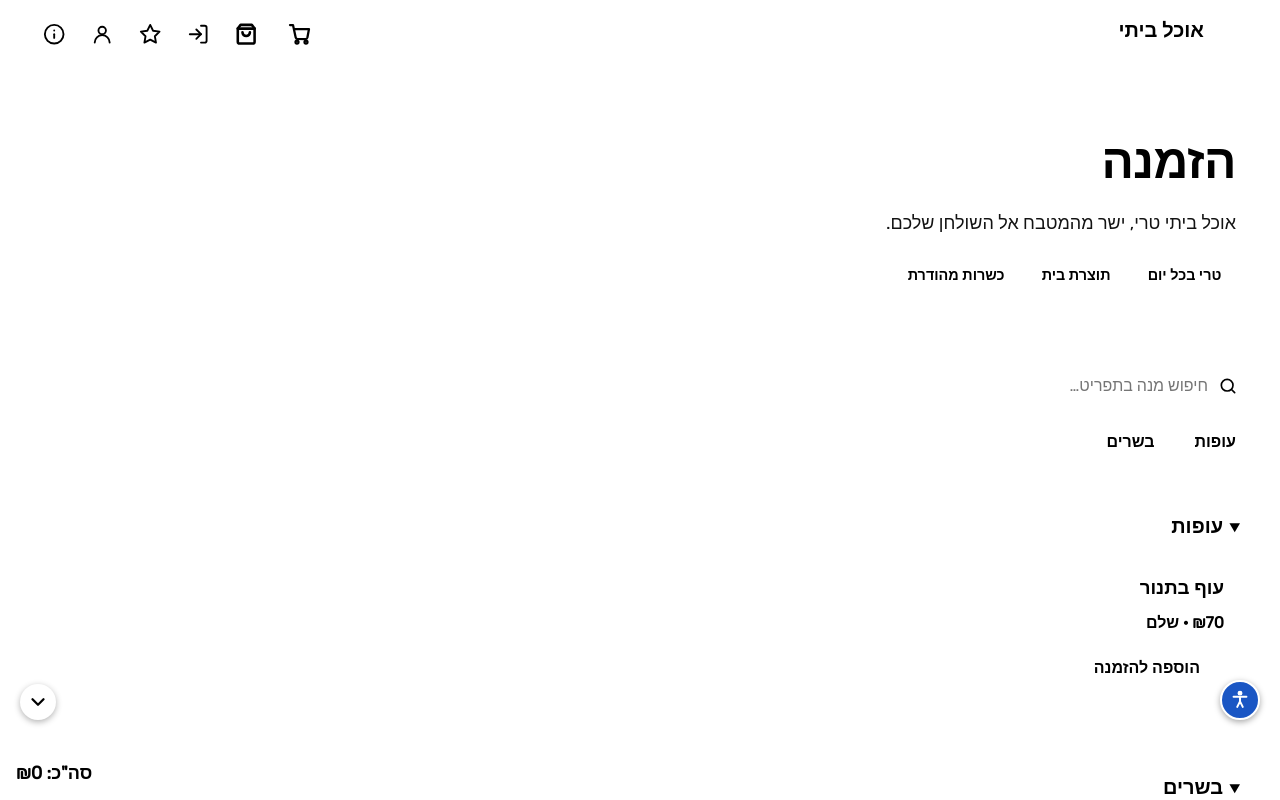
Test: Order page › shows the dish details only once it is chosen, with the default option preselected
Expected: the heading "עופות" is shown, [1171,514,1223,538]
Step 1. Click the button "הוספה להזמנה" → [1147, 668], box [1074,645,1220,691]
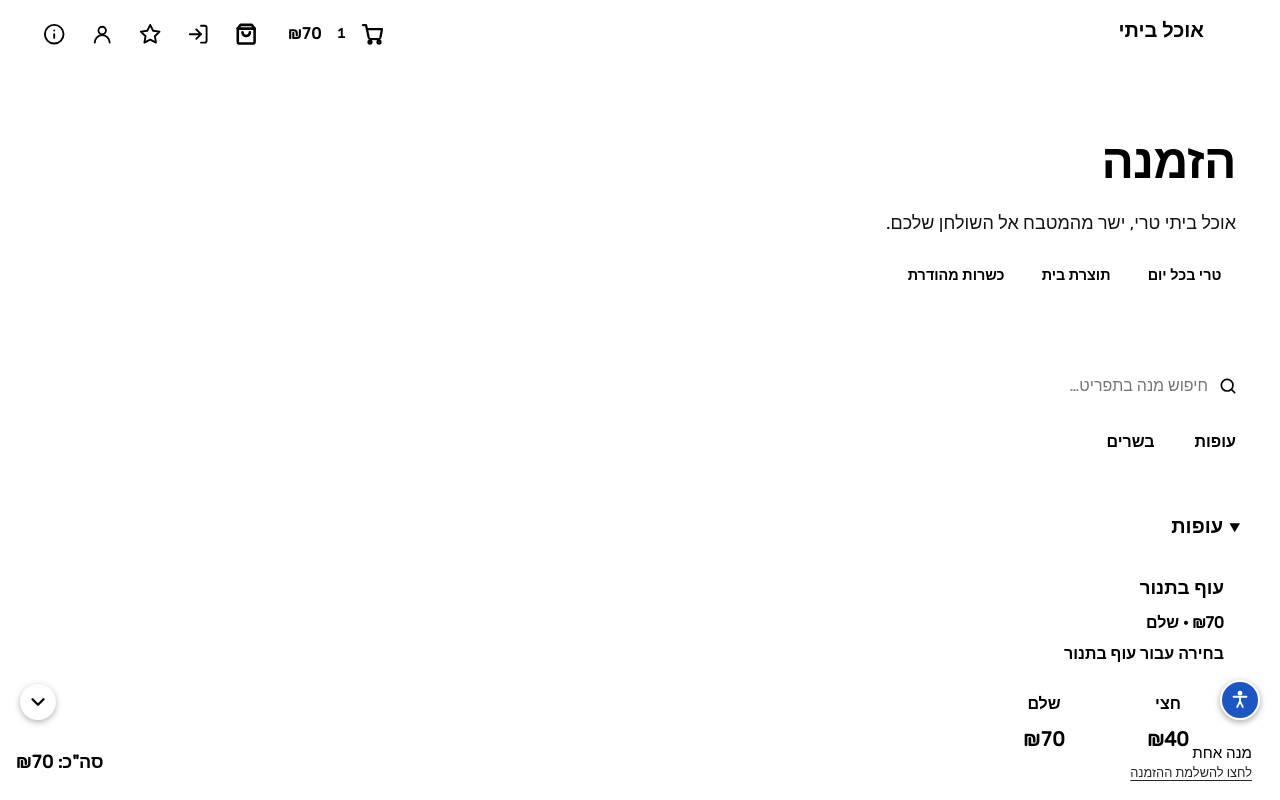
Expected: the radio button labelled "שלם ₪70" is checked, [1023,694,1065,751]
Expected: the radio button labelled "חצי ₪40" is not checked, [1147,694,1189,751]
Expected: the text "סה\"כ: ₪70" is shown, [16,748,104,777]
